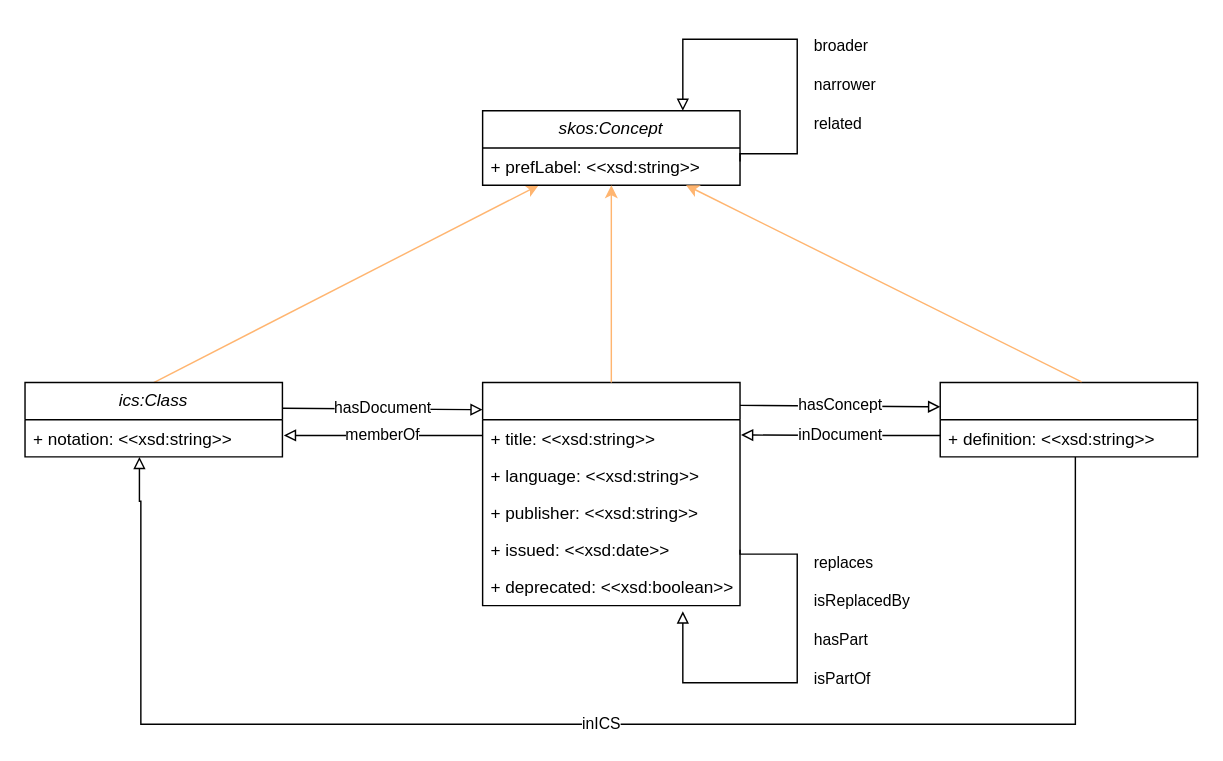
This 1223x761 diagram has some shape labels left out. The shapes that lost their labels are listed below. From the top down, each one's box as (x1, y1, x2, y2) in pixels, then its label:
(939, 381, 1198, 457): vocab:Concept
(481, 381, 740, 606): docs:Document
